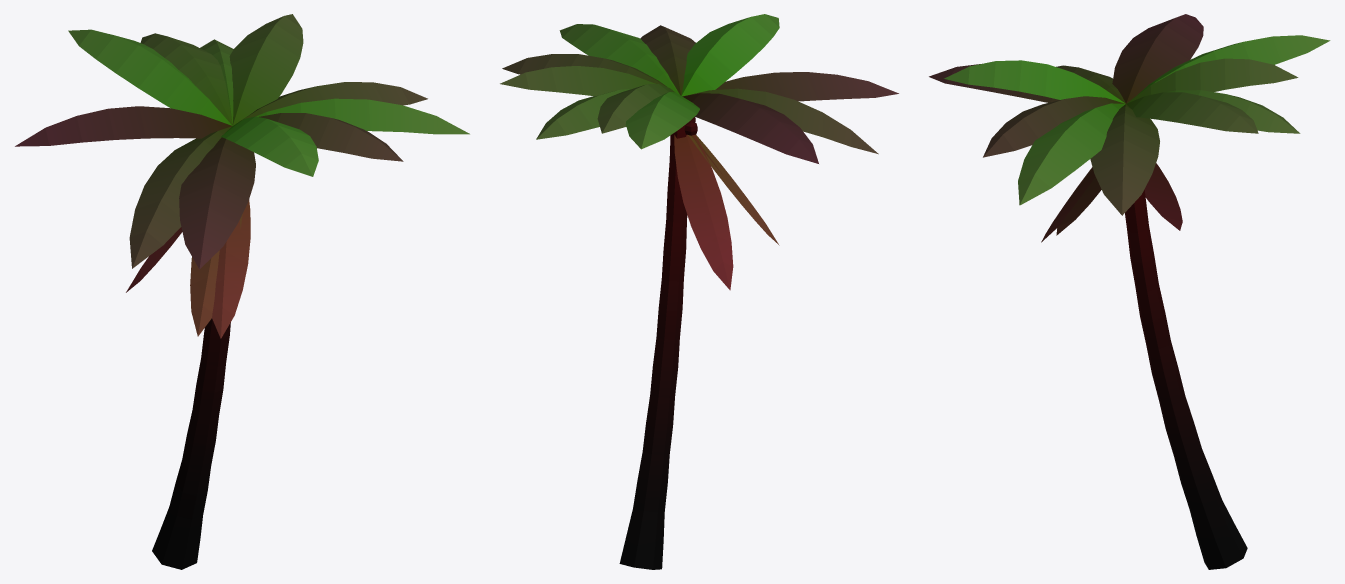
The model's file is palm_a.glb.
The picture shows the model from 3 angles, left to right: view 1: azimuth 30°, elevation 25°; view 2: azimuth 150°, elevation 25°; view 3: azimuth 270°, elevation 25°; orthographic projection. The views are drawn at different scales.
Visible parts, largest first — view 1: Palm; view 2: Palm; view 3: Palm.
Part boxes in pixels (x1,y1,x2,y2): Palm: [15, 14, 469, 569]; Palm: [500, 14, 898, 569]; Palm: [929, 14, 1330, 569].
Size of the model in its own units: 6 by 7.86 by 5.62.
